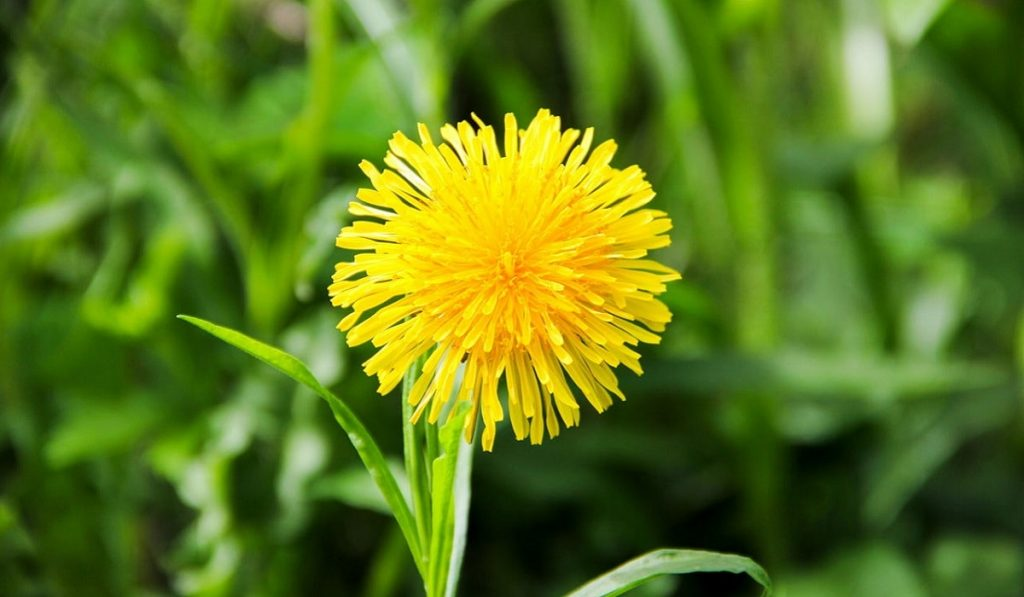begonvil: (345, 114, 677, 471)
